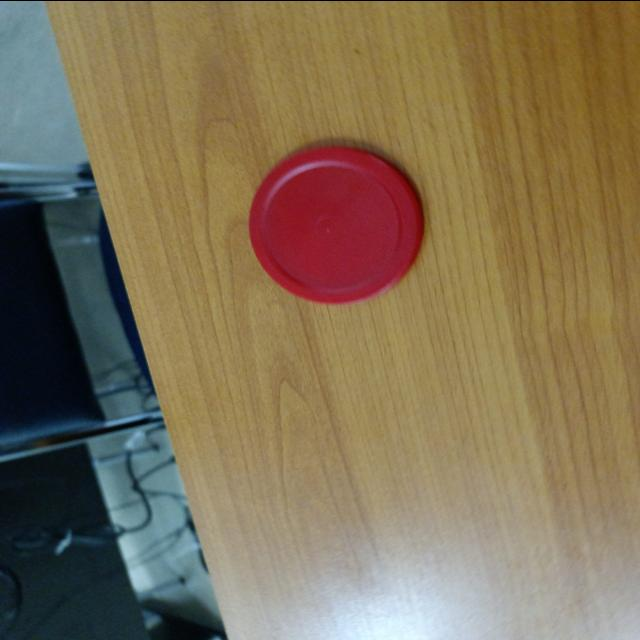chip: (243, 142, 426, 306)
